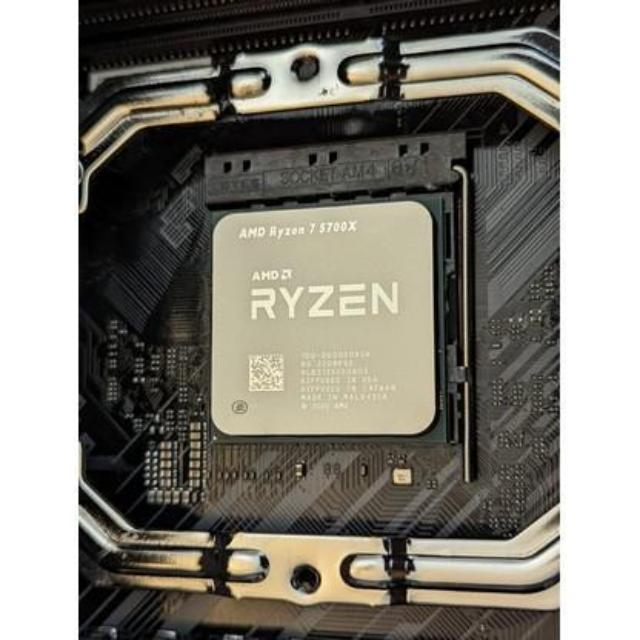CPU: (212, 201, 444, 441)
